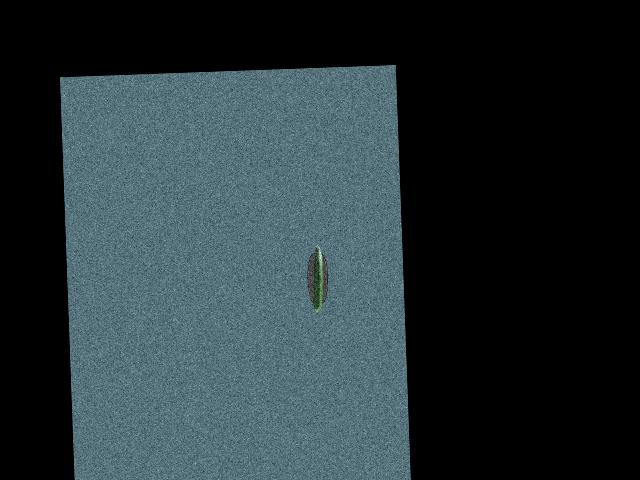cucumber: (310, 244, 324, 311)
